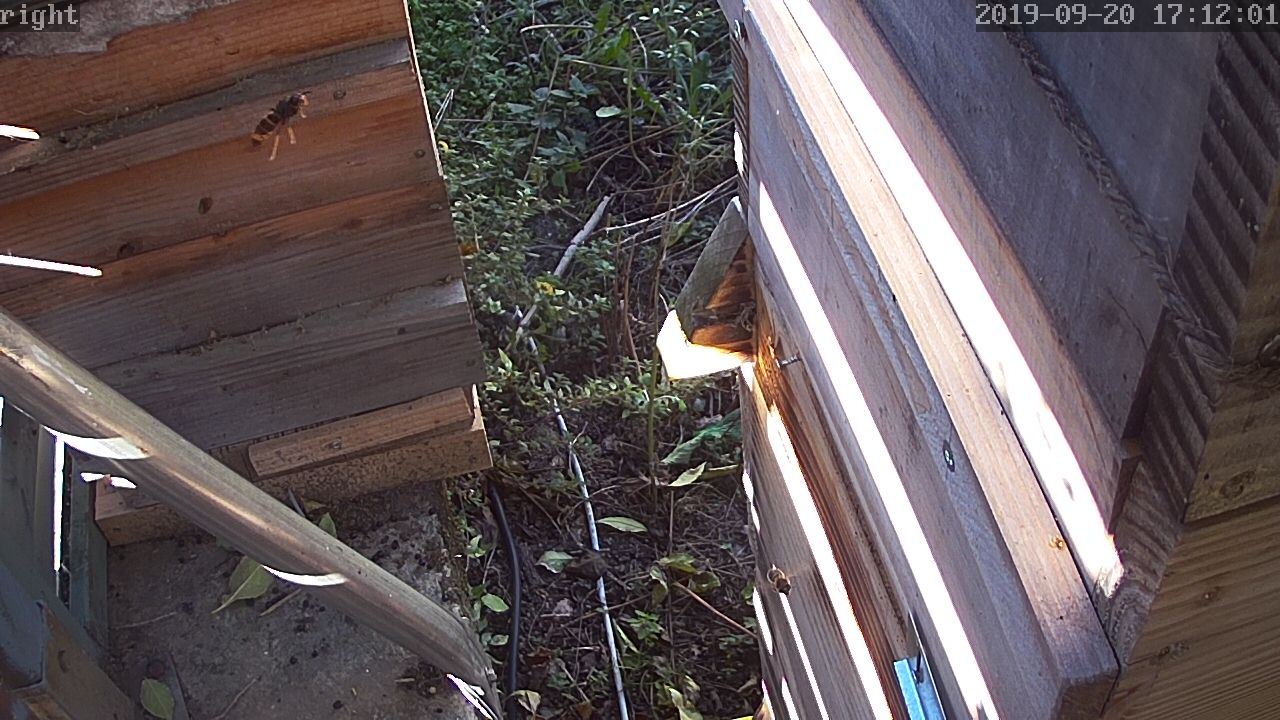bee: (251, 89, 309, 152)
hornet: (33, 4, 1241, 720)
